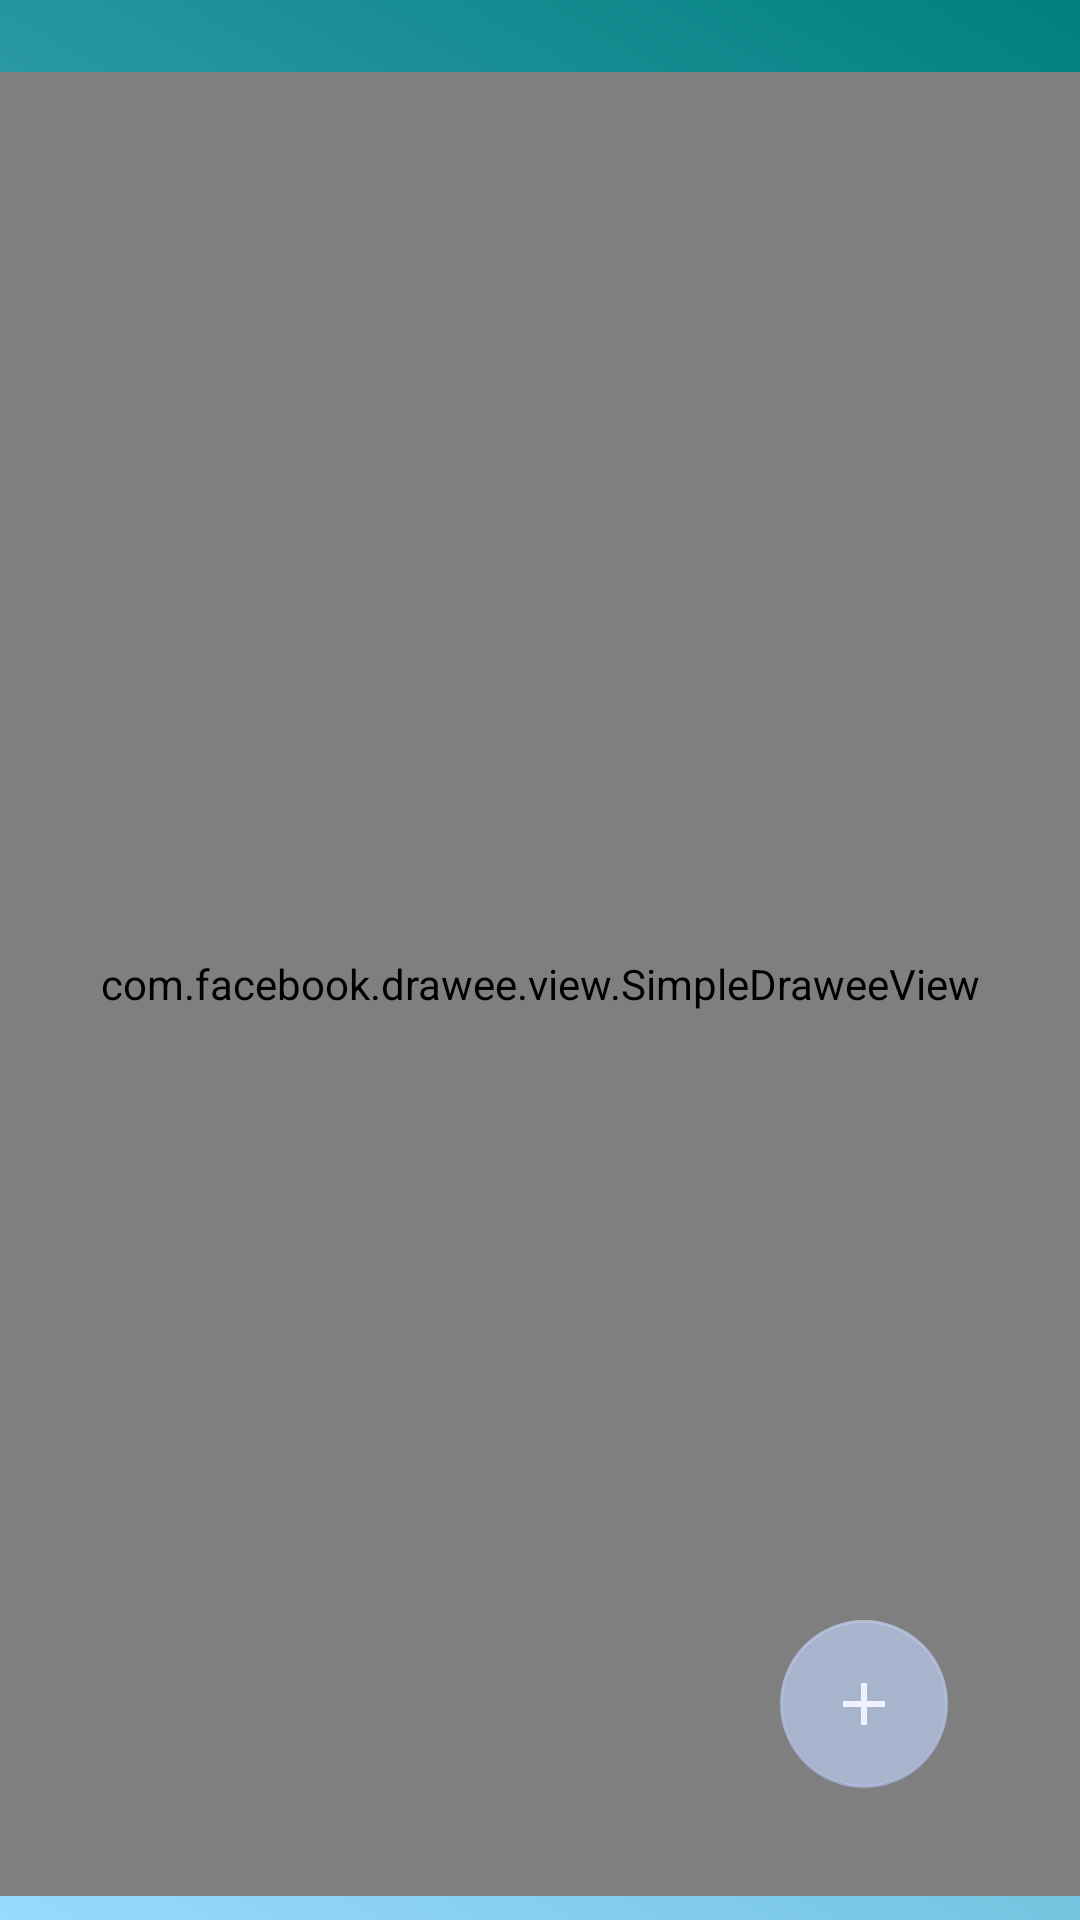

Locate icon controls on the screen. Image size 1080 × 1920, boxes as [left=x1, top=y1, right=x2, bottom=y2].
add: [left=780, top=1620, right=948, bottom=1788]
